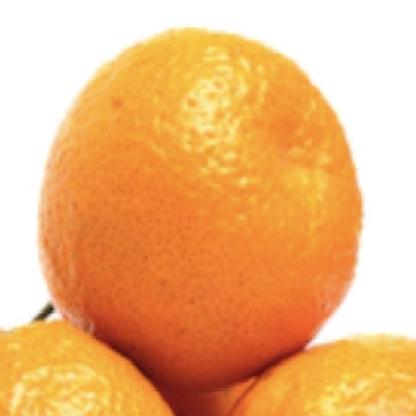fresh: (40, 27, 364, 396)
